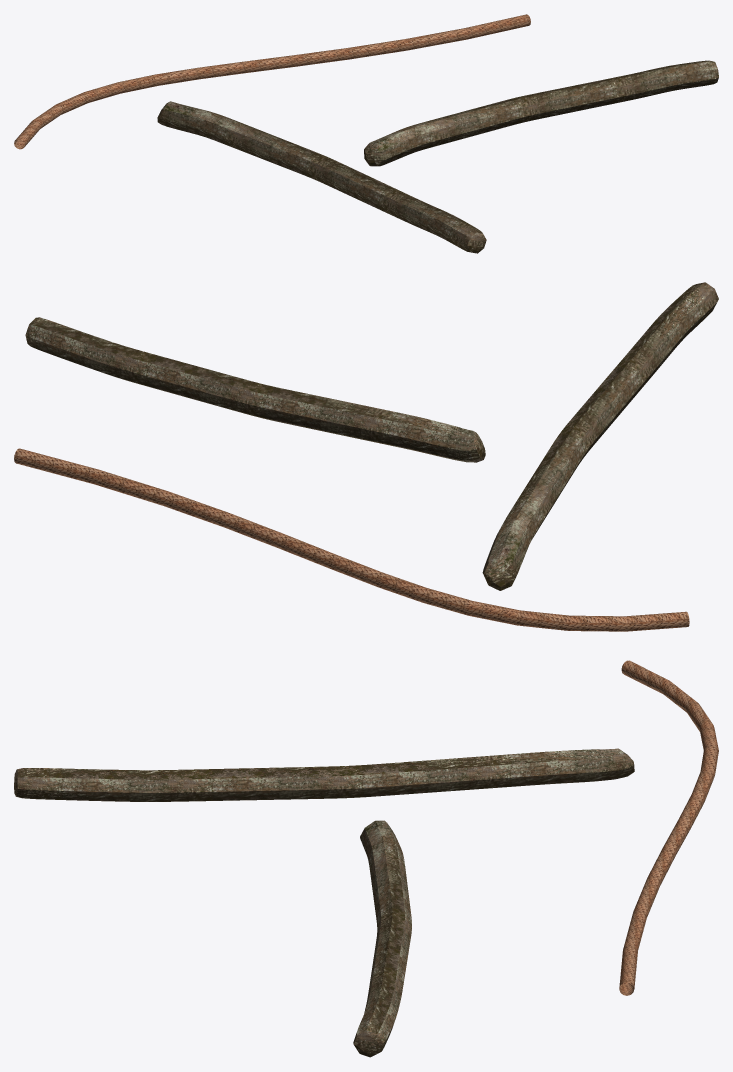
File: tumbadesarmada.fbx
3 renders of one model, top to bottom at view 1: azimuth 30°, elevation 25°; view 2: azimuth 150°, elevation 25°; view 3: azimuth 270°, elevation 25°, orthographic. The views are drawn at different scales.
Visible parts, largest first — view 1: Cylinder.001, Cylinder, BézierCurve.001; view 2: Cylinder.001, Cylinder, BézierCurve.001; view 3: Cylinder, Cylinder.001, BézierCurve.001.
Part boxes in pixels (bbox=[...]): Cylinder.001: bbox=[364, 60, 718, 166]; Cylinder: bbox=[157, 101, 486, 253]; BézierCurve.001: bbox=[14, 14, 530, 149]; Cylinder.001: bbox=[25, 317, 485, 462]; Cylinder: bbox=[482, 282, 718, 590]; BézierCurve.001: bbox=[14, 448, 689, 631]; Cylinder: bbox=[14, 748, 634, 801]; Cylinder.001: bbox=[353, 820, 411, 1057]; BézierCurve.001: bbox=[619, 660, 718, 995].
Size of the model in its own units: 236 by 17.02 by 185.
3 materials, 3 textured.
